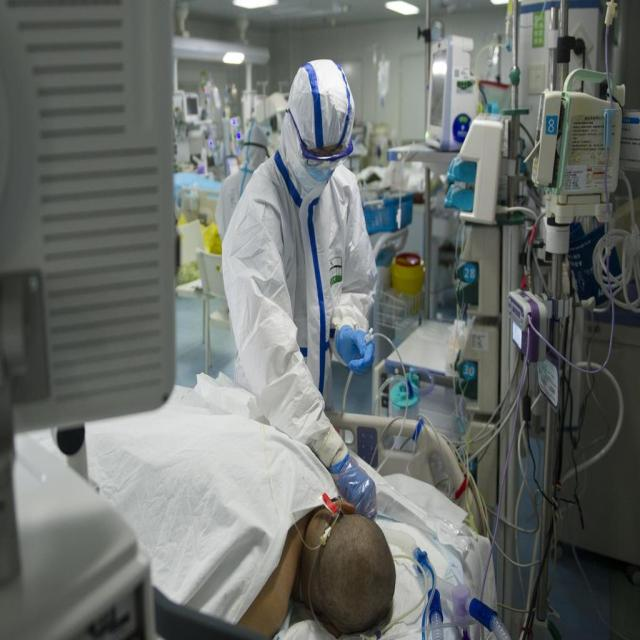Coverall: (222, 55, 379, 463), (214, 122, 267, 243)
Gloves: (331, 449, 378, 519), (333, 323, 376, 373)
Goggles: (298, 145, 356, 175)
Mask: (308, 163, 338, 182)
